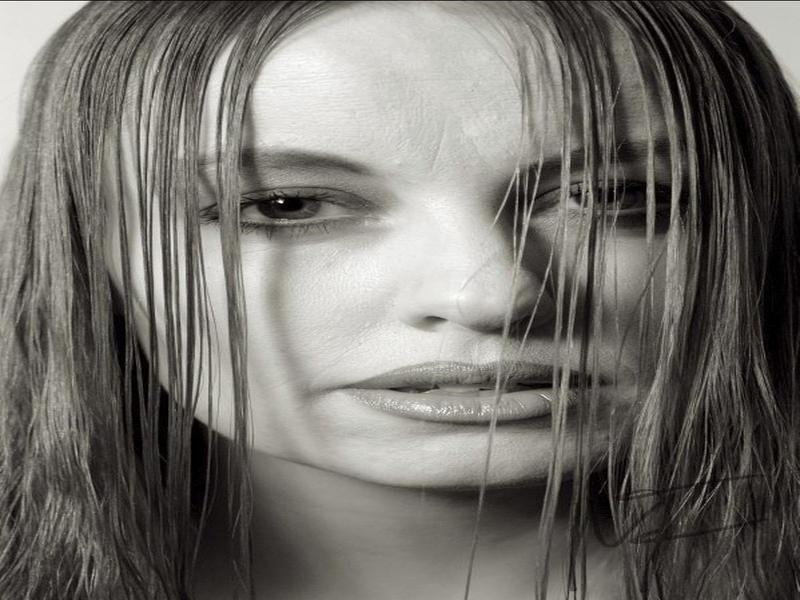person: (1, 1, 799, 597)
